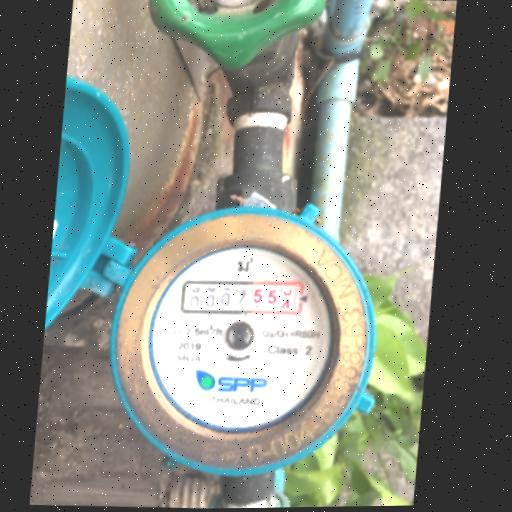0: (217, 288, 230, 308), (187, 288, 200, 307), (204, 288, 216, 308)
3: (280, 289, 294, 309)
5: (250, 288, 263, 309), (265, 289, 278, 308)
7: (234, 288, 246, 308)
border_water_meter_number: (179, 277, 305, 317)
